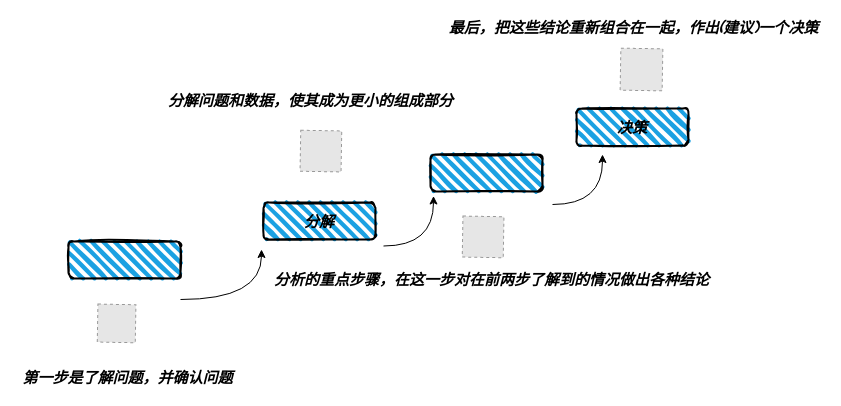
Image size: 841x406. Some labels were removed from this diagram. Grey dashed boxes stand in for pictures. The box of each missing label's shape, as (x1, y1, x2, y2) in pixels:
确定: (67, 240, 181, 279)
评估: (429, 153, 543, 192)
